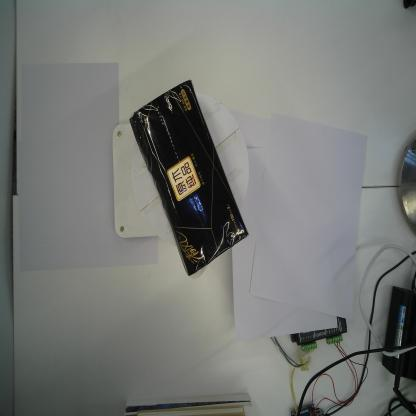Tissue: (130, 79, 249, 277)
